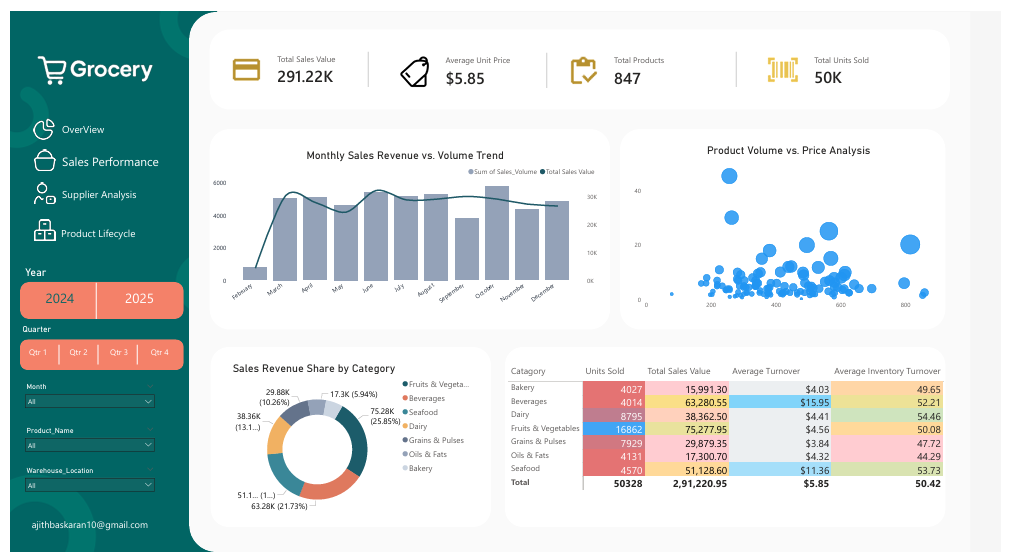

This screenshot's page, from the dashboard's own definition file:
{"tool":"powerbi","page":{"name":"Sales Performance","canvas":[1980,1080],"ordinal":1},"visuals":[{"type":"shape","box":[357.8,0,1561.4,1080],"z":0},{"type":"cardVisual","fields":{"Data":["Key Measures.Total Sales Value"]},"box":[505.3,45.5,210.4,138.8],"z":0,"group":"g1"},{"type":"cardVisual","fields":{"Data":["Key Measures.Total Units Sold"]},"box":[1577.6,51.6,242.9,132.3],"z":0,"group":"g4"},{"type":"cardVisual","fields":{"Data":["Key Measures.Average Unit Price"]},"box":[841.5,54.2,210.4,130.1],"z":0,"group":"g3"},{"type":"cardVisual","fields":{"Data":["Key Measures.Total Products"]},"box":[1177.6,54.2,273.3,130.1],"z":0,"group":"g2"},{"type":"shape","box":[399,34.7,1479,160.5],"z":1000},{"type":"image","box":[440.2,82.4,65.1,65.1],"z":1000,"group":"g1"},{"type":"image","box":[1511.6,82.4,65.1,65.1],"z":1000,"group":"g4"},{"type":"image","box":[776.4,86.7,65.1,65.1],"z":1000,"group":"g3"},{"type":"image","box":[1112.5,86.7,65.1,65.1],"z":1000,"group":"g2"},{"type":"group","id":"g1","title":"Group 1","box":[440.2,45.5,275.4,138.8],"z":2000},{"type":"group","id":"g2","title":"Group 3","box":[1112.5,54.2,338.3,130.1],"z":3000},{"type":"group","id":"g3","title":"Group 2","box":[776.4,54.2,275.4,130.1],"z":4000},{"type":"group","id":"g4","title":"Group 4","box":[1511.6,51.6,308.9,132.3],"z":5000},{"type":"shape","box":[676.6,80.2,78.1,69.4],"z":6000},{"type":"shape","box":[1411.8,80.2,78.1,69.4],"z":7000},{"type":"shape","box":[1032.3,82.4,80.2,69.4],"z":8000},{"type":"shape","box":[399,234.2,800.2,401.2],"z":9000},{"type":"shape","box":[1218.8,234.2,650.6,401.2],"z":10000},{"type":"shape","box":[401.2,670.1,559.5,360],"z":11000},{"type":"shape","box":[988.9,670.1,880.5,360],"z":12000},{"type":"image","box":[19.5,17.3,299.3,199.5],"z":13000},{"type":"image","box":[34.7,212.5,67.2,43.4],"z":14000},{"type":"image","box":[47.7,275.4,43.4,43.4],"z":15000},{"type":"image","box":[47.7,340.5,43.4,45.5],"z":16000},{"type":"image","box":[47.7,414.2,43.4,43.4],"z":17000},{"type":"shape","box":[19.5,654.9,327.5,60.7],"z":18000},{"type":"advancedSlicerVisual","fields":{"Values":["Grocery_Inventory.Date_Received.Variation.Date Hierarchy.Quarter"]},"box":[19.5,624.6,327.5,91.1],"z":19000},{"type":"shape","box":[58.6,665.8,78.1,39],"z":20000},{"type":"shape","box":[136.6,665.8,78.1,39],"z":21000},{"type":"shape","box":[214.7,665.8,78.1,39],"z":22000},{"type":"slicer","fields":{"Values":["Grocery_Inventory.Date_Received.Variation.Date Hierarchy.Month"]},"box":[19.5,737.3,279.8,69.4],"z":23000},{"type":"slicer","fields":{"Values":["Grocery_Inventory.Product_Name"]},"box":[19.5,824.1,279.8,69.4],"z":24000},{"type":"textbox","box":[8.7,1008.4,301.4,43.4],"z":25000},{"type":"pivotTable","fields":{"Rows":["Grocery_Inventory.Catagory"],"Values":["Sum(Grocery_Inventory.Sales_Volume)","Key Measures.Total Sales Value","Key Measures.Average Unit Price","Key Measures.Average Turnover Ratio"]},"box":[991.1,700.5,887,294.9],"z":26000},{"type":"donutChart","title":"Sales Revenue Share by Category","fields":{"Category":["Grocery_Inventory.Catagory"],"Y":["Key Measures.Total Sales Value"]},"box":[440.2,700.5,492.3,325.3],"z":27000},{"type":"lineStackedColumnComboChart","title":"Monthly Sales Revenue vs. Volume Trend","fields":{"Category":["Grocery_Inventory.Date_Received.Variation.Date Hierarchy.Month"],"Y":["Sum(Grocery_Inventory.Sales_Volume)"],"Y2":["Key Measures.Total Sales Value"]},"box":[401.2,275.4,776.4,329.6],"z":28000},{"type":"scatterChart","title":"Product Volume vs. Price Analysis","fields":{"X":["Sum(Grocery_Inventory.Sales_Volume)"],"Y":["Avg(Grocery_Inventory.Unit_Price)"],"Size":["Key Measures.Total Sales Value"],"Category":["Grocery_Inventory.Product_Name"]},"box":[1242.7,264.6,626.7,340.5],"z":29000},{"type":"slicer","fields":{"Values":["Grocery_Inventory.Warehouse_Location"]},"box":[19.5,904.3,279.8,69.4],"z":30000},{"type":"shape","box":[104.1,201.7,214.7,65.1],"z":31000},{"type":"shape","box":[104.1,264.6,214.7,65.1],"z":32000},{"type":"shape","box":[104.1,331.8,214.7,65.1],"z":33000},{"type":"shape","box":[101.9,409.9,214.7,65.1],"z":34000},{"type":"shape","box":[19.5,540,327.5,73.7],"z":34001},{"type":"group","id":"g5","title":"Group 5","box":[24.9,508.6,321,105],"z":34002},{"type":"advancedSlicerVisual","fields":{"Values":["Grocery_Inventory.Date_Received.Variation.Date Hierarchy.Year"]},"box":[24.9,508.6,321,101.9],"z":37000,"group":"g5"},{"type":"shape","box":[131.4,542,82.4,71.6],"z":38000,"group":"g5"}]}

Visuals, with their boxes on the page's 1980x1080 design canvas (x1, y1, x2, y2). These are canvas units, not pixel positions in the 1012x560 screenshot, which may show the page scaled, cropped or inside an application window:
shape: bbox=(358, 0, 1919, 1080)
cardVisual - Key Measures.Total Sales Value: bbox=(505, 46, 716, 184)
cardVisual - Key Measures.Total Units Sold: bbox=(1578, 52, 1820, 184)
cardVisual - Key Measures.Average Unit Price: bbox=(842, 54, 1052, 184)
cardVisual - Key Measures.Total Products: bbox=(1178, 54, 1451, 184)
shape: bbox=(399, 35, 1878, 195)
image: bbox=(440, 82, 505, 148)
image: bbox=(1512, 82, 1577, 148)
image: bbox=(776, 87, 842, 152)
image: bbox=(1112, 87, 1178, 152)
"Group 1" group: bbox=(440, 46, 716, 184)
"Group 3" group: bbox=(1112, 54, 1451, 184)
"Group 2" group: bbox=(776, 54, 1052, 184)
"Group 4" group: bbox=(1512, 52, 1820, 184)
shape: bbox=(677, 80, 755, 150)
shape: bbox=(1412, 80, 1490, 150)
shape: bbox=(1032, 82, 1112, 152)
shape: bbox=(399, 234, 1199, 635)
shape: bbox=(1219, 234, 1869, 635)
shape: bbox=(401, 670, 961, 1030)
shape: bbox=(989, 670, 1869, 1030)
image: bbox=(20, 17, 319, 217)
image: bbox=(35, 212, 102, 256)
image: bbox=(48, 275, 91, 319)
image: bbox=(48, 340, 91, 386)
image: bbox=(48, 414, 91, 458)
shape: bbox=(20, 655, 347, 716)
advancedSlicerVisual - Grocery_Inventory.Date_Received.Variation.Date Hierarchy.Quarter: bbox=(20, 625, 347, 716)
shape: bbox=(59, 666, 137, 705)
shape: bbox=(137, 666, 215, 705)
shape: bbox=(215, 666, 293, 705)
slicer - Grocery_Inventory.Date_Received.Variation.Date Hierarchy.Month: bbox=(20, 737, 299, 807)
slicer - Grocery_Inventory.Product_Name: bbox=(20, 824, 299, 894)
textbox: bbox=(9, 1008, 310, 1052)
pivotTable - Grocery_Inventory.Catagory x Sum(Grocery_Inventory.Sales_Volume): bbox=(991, 700, 1878, 995)
"Sales Revenue Share by Category" donutChart: bbox=(440, 700, 932, 1026)
"Monthly Sales Revenue vs. Volume Trend" lineStackedColumnComboChart: bbox=(401, 275, 1178, 605)
"Product Volume vs. Price Analysis" scatterChart: bbox=(1243, 265, 1869, 605)
slicer - Grocery_Inventory.Warehouse_Location: bbox=(20, 904, 299, 974)
shape: bbox=(104, 202, 319, 267)
shape: bbox=(104, 265, 319, 330)
shape: bbox=(104, 332, 319, 397)
shape: bbox=(102, 410, 317, 475)
shape: bbox=(20, 540, 347, 614)
"Group 5" group: bbox=(25, 509, 346, 614)
advancedSlicerVisual - Grocery_Inventory.Date_Received.Variation.Date Hierarchy.Year: bbox=(25, 509, 346, 610)
shape: bbox=(131, 542, 214, 614)
